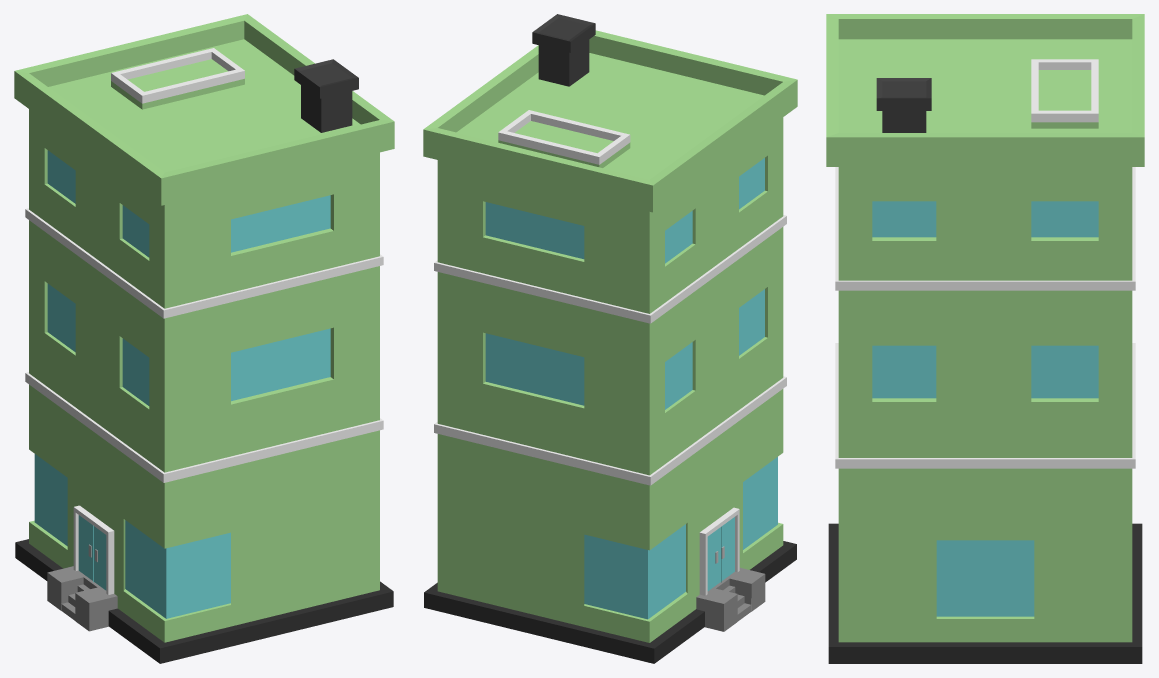
Rendered from building_green.fbx.
The picture shows the model from 3 angles, left to right: view 1: azimuth 30°, elevation 25°; view 2: azimuth 150°, elevation 25°; view 3: azimuth 270°, elevation 25°; orthographic projection. The views are drawn at different scales.
Parts seen in each view (by area): view 1: building, glass, white, black, chimney, stair; view 2: building, glass, white, black, chimney, stair; view 3: building, glass, white, black, chimney.
Part boxes in pixels (box(x1,y1,x2,y2)): building: box(14, 14, 394, 642); glass: box(34, 150, 330, 618); white: box(25, 48, 383, 594); black: box(15, 539, 393, 663); chimney: box(294, 59, 358, 132); stair: box(47, 566, 117, 631); building: box(423, 30, 797, 642); glass: box(485, 158, 777, 619); white: box(434, 110, 786, 595); black: box(424, 541, 796, 663); chimney: box(532, 14, 595, 86); stair: box(696, 567, 765, 631); building: box(826, 14, 1144, 642); glass: box(872, 201, 1098, 616); white: box(835, 59, 1135, 468); black: box(828, 523, 1142, 663); chimney: box(876, 78, 931, 132).
Size of the model in its own units: 4342 by 8469 by 4367.
